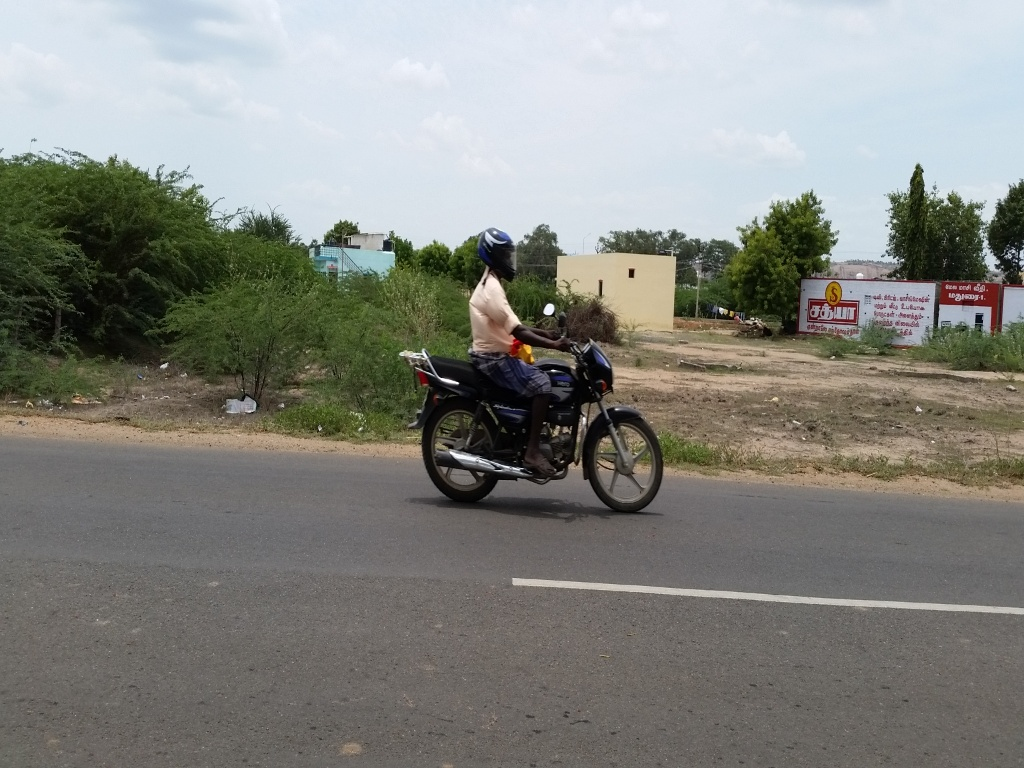biker: (391, 198, 678, 518)
helmet: (467, 213, 532, 293)
